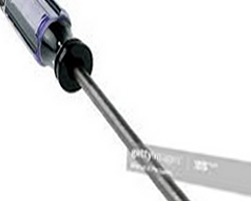screwdriver: (1, 1, 190, 201)
